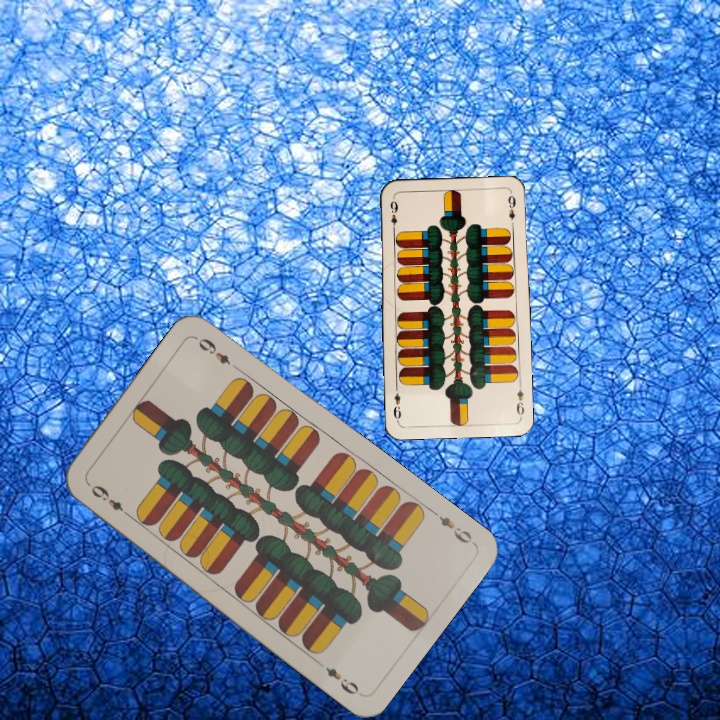E9: (84, 479, 134, 521), (427, 505, 475, 547), (512, 379, 527, 420), (386, 197, 400, 235)
